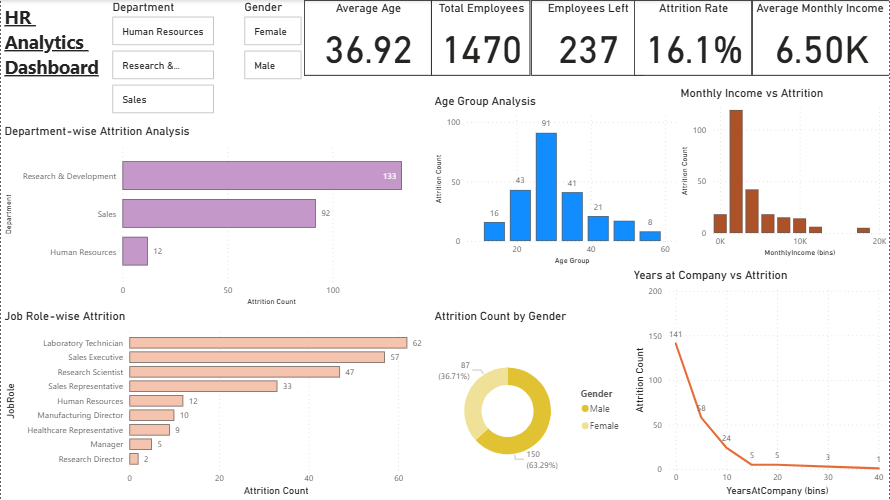

Layout of this report page (visuals, bound fields, positions):
{"tool":"powerbi","page":{"name":"Page 1","canvas":[1280,720],"ordinal":0},"visuals":[{"type":"card","title":"Total Employees","fields":{"Values":["Sum(WA_Fn-UseC_-HR-Employee-Attrition.EmployeeCount)"]},"box":[619.4,0,143.3,109],"z":0},{"type":"card","title":"Employees Left","fields":{"Values":["Sum(WA_Fn-UseC_-HR-Employee-Attrition.EmployeeCount)"]},"box":[762.7,0,162.7,109],"z":1000},{"type":"card","title":"Attrition Rate","fields":{"Values":["HR_Analytics.Attrition R"]},"box":[911.9,0,170.1,109],"z":2000},{"type":"card","title":"Average Monthly Income","fields":{"Values":["Avg(HR_Analytics.MonthlyIncome)"]},"box":[1082.1,0,198.5,109],"z":3000},{"type":"clusteredBarChart","title":"Department-wise Attrition Analysis","fields":{"Category":["HR_Analytics.Department"],"Y":["HR_Analytics.Attrition Count"]},"box":[0,179.1,619.4,265.7],"z":4000},{"type":"clusteredBarChart","title":"Job Role-wise Attrition","fields":{"Category":["HR_Analytics.JobRole"],"Y":["HR_Analytics.Attrition Count"]},"box":[0,444.8,619.4,274.6],"z":5000},{"type":"donutChart","fields":{"Category":["HR_Analytics.Gender"],"Y":["HR_Analytics.Attrition Count"]},"box":[619.4,444.8,286.6,274.6],"z":6000},{"type":"clusteredColumnChart","title":"Age Group Analysis","fields":{"Category":["HR_Analytics.Age Group"],"Y":["HR_Analytics.Attrition Count"]},"box":[619.4,135.8,359.7,250.7],"z":7000},{"type":"lineChart","title":"Years at Company vs Attrition","fields":{"Y":["HR_Analytics.Attrition Count"],"Category":["HR_Analytics.YearsAtCompany (bins)"]},"box":[906,386.6,373.1,332.8],"z":8000},{"type":"clusteredColumnChart","title":"Monthly Income vs Attrition","fields":{"Y":["HR_Analytics.Attrition Count"],"Category":["HR_Analytics.MonthlyIncome (bins)"]},"box":[973.1,123.9,307.5,250.7],"z":9000},{"type":"advancedSlicerVisual","fields":{"Values":["HR_Analytics.Department"]},"box":[155.2,0,464.2,168.7],"z":10000},{"type":"advancedSlicerVisual","fields":{"Values":["HR_Analytics.Gender"]},"box":[346.3,0,273.1,168.7],"z":11000},{"type":"textbox","box":[0,0,155,169],"z":12000},{"type":"card","title":"Average Age","fields":{"Values":["Avg(HR_Analytics.Age)"]},"box":[435.8,0,183.6,109],"z":12001}]}

Visuals, with their boxes in screenshot pixels (x1, y1, x2, y2), scaled from the page's 1280x720 canvas onto the 890x500 screenshot:
"Total Employees" card: Rect(431, 0, 530, 76)
"Employees Left" card: Rect(530, 0, 643, 76)
"Attrition Rate" card: Rect(634, 0, 752, 76)
"Average Monthly Income" card: Rect(752, 0, 889, 76)
"Department-wise Attrition Analysis" clusteredBarChart: Rect(0, 124, 431, 309)
"Job Role-wise Attrition" clusteredBarChart: Rect(0, 309, 431, 499)
donutChart - HR_Analytics.Gender x HR_Analytics.Attrition Count: Rect(431, 309, 630, 499)
"Age Group Analysis" clusteredColumnChart: Rect(431, 94, 681, 268)
"Years at Company vs Attrition" lineChart: Rect(630, 268, 889, 499)
"Monthly Income vs Attrition" clusteredColumnChart: Rect(677, 86, 889, 260)
advancedSlicerVisual - HR_Analytics.Department: Rect(108, 0, 431, 117)
advancedSlicerVisual - HR_Analytics.Gender: Rect(241, 0, 431, 117)
textbox: Rect(0, 0, 108, 117)
"Average Age" card: Rect(303, 0, 431, 76)
